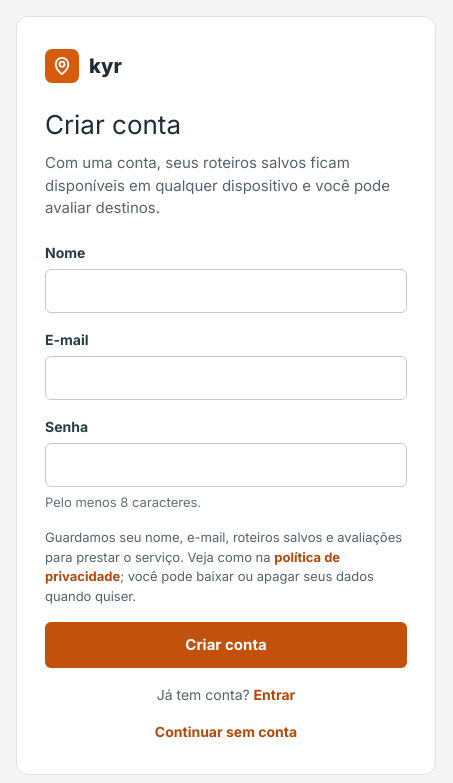
Test case: FormularioDeConta › no cadastro, exige senha de 8 caracteres antes de chamar o servidor
The image size is (453, 783).
Type "Ana Viajante" into the field labelled "Nome" at (226, 290), box [45, 268, 407, 312]
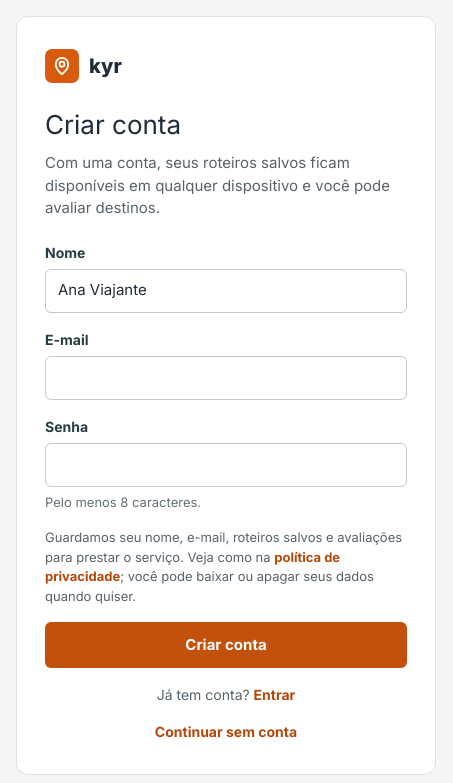
Type "ana@exemplo.com" into the field labelled "E-mail" at (226, 378), box [45, 356, 407, 400]
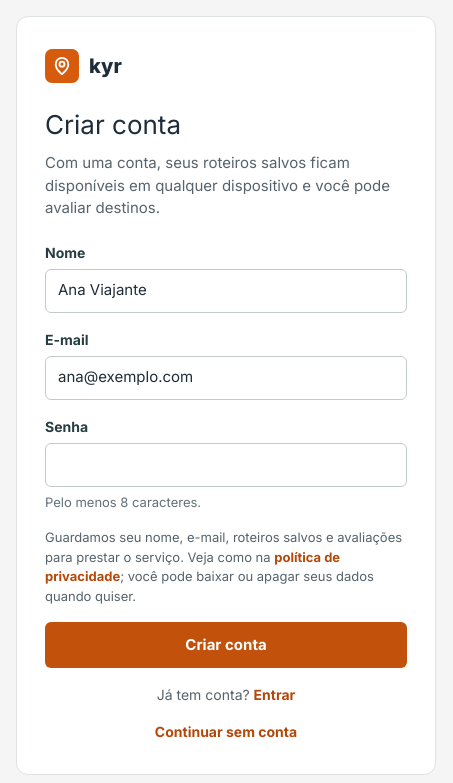
Type "curta" into the password field labelled "Senha Pelo menos 8 caracteres." at (226, 464), box [45, 442, 407, 486]
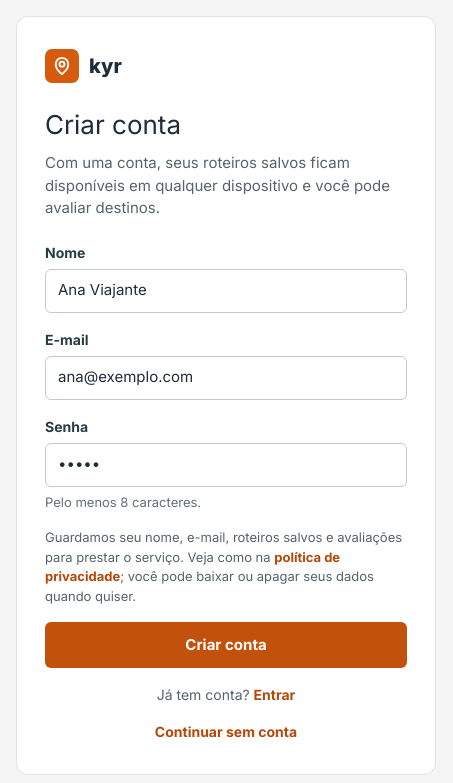
Submit the form, box [45, 242, 407, 668]
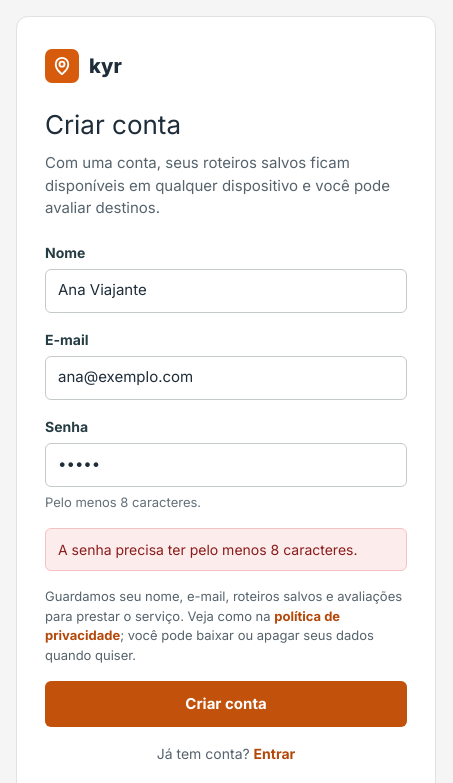
Expected: the message reads "A senha precisa ter pelo menos 8 caracteres.", [58, 541, 358, 558]
